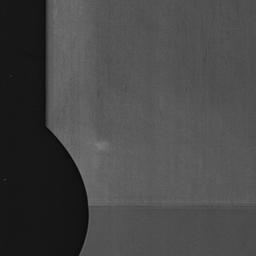Crescent gap: (49, 130, 89, 256)
